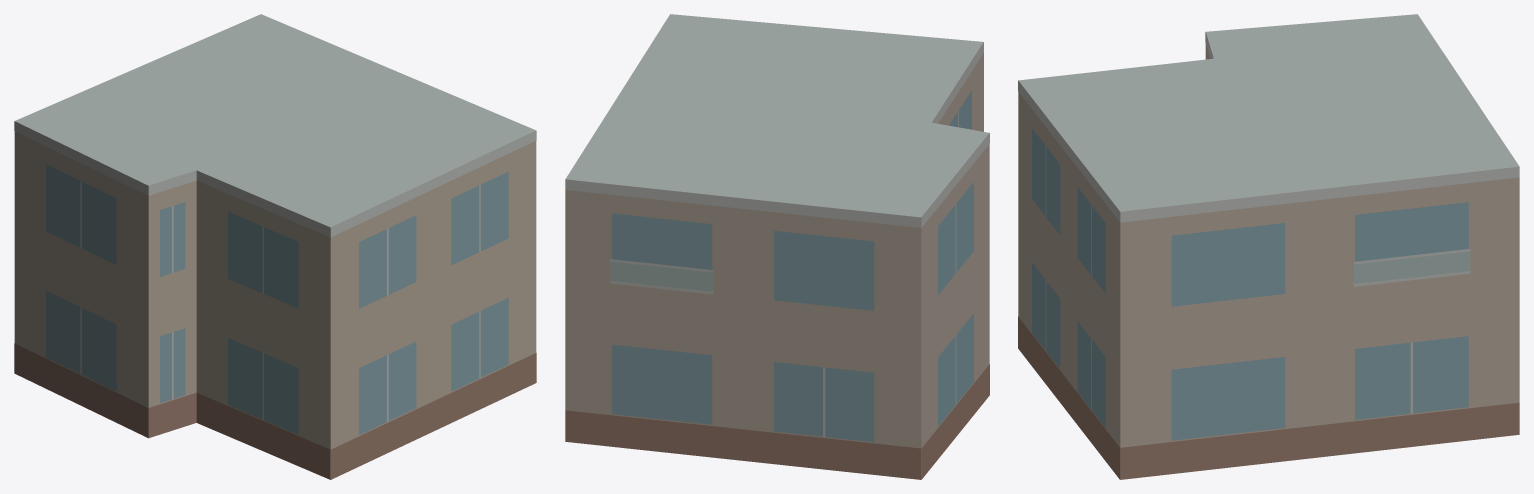
File: survey-upis-33000530.glb
3 views of the same model, side by side, from view 1: azimuth 30°, elevation 25°; view 2: azimuth 150°, elevation 25°; view 3: azimuth 270°, elevation 25° (orthographic). The views are drawn at different scales.
Parts seen in each view (by area): view 1: survey-upis-33000530.tmp; view 2: survey-upis-33000530.tmp; view 3: survey-upis-33000530.tmp.
Boxes of the visible parts, x1,y1,x2,y2 form: survey-upis-33000530.tmp: [14, 14, 536, 479]; survey-upis-33000530.tmp: [565, 14, 989, 479]; survey-upis-33000530.tmp: [1018, 14, 1519, 479].
Size of the model in its own units: 9.67 by 6.1 by 10.36.
